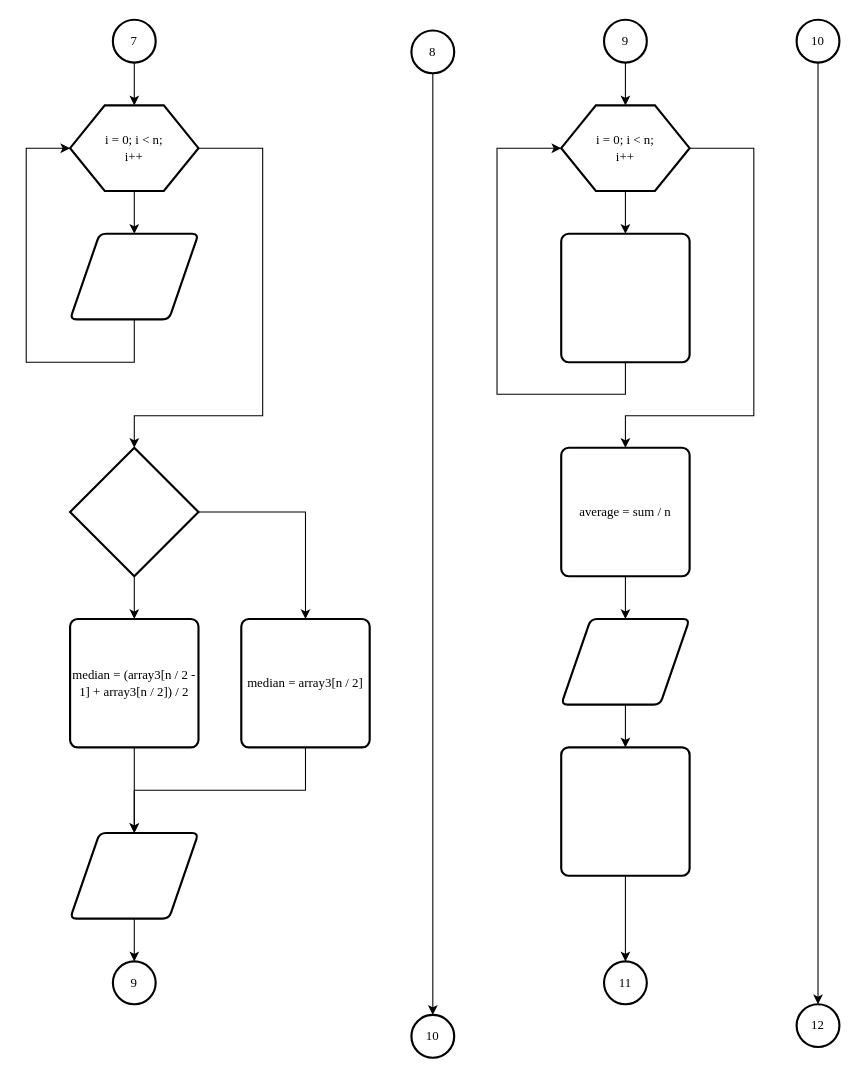
Some shapes in this 859 by 1076 pixel diagram are drawn without their labels. Here are the shapes that lost their labels. From the top down, the centre of each, then its label:
point 133,276: output: arr3[i]
point 625,297: sum += array3[i]
point 133,511: n % 2 == 0
point 625,661: output: average
point 625,811: deviation = average - median
point 133,875: output: median
